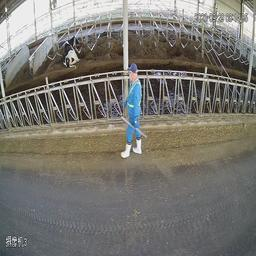cow: (62, 35, 81, 68)
